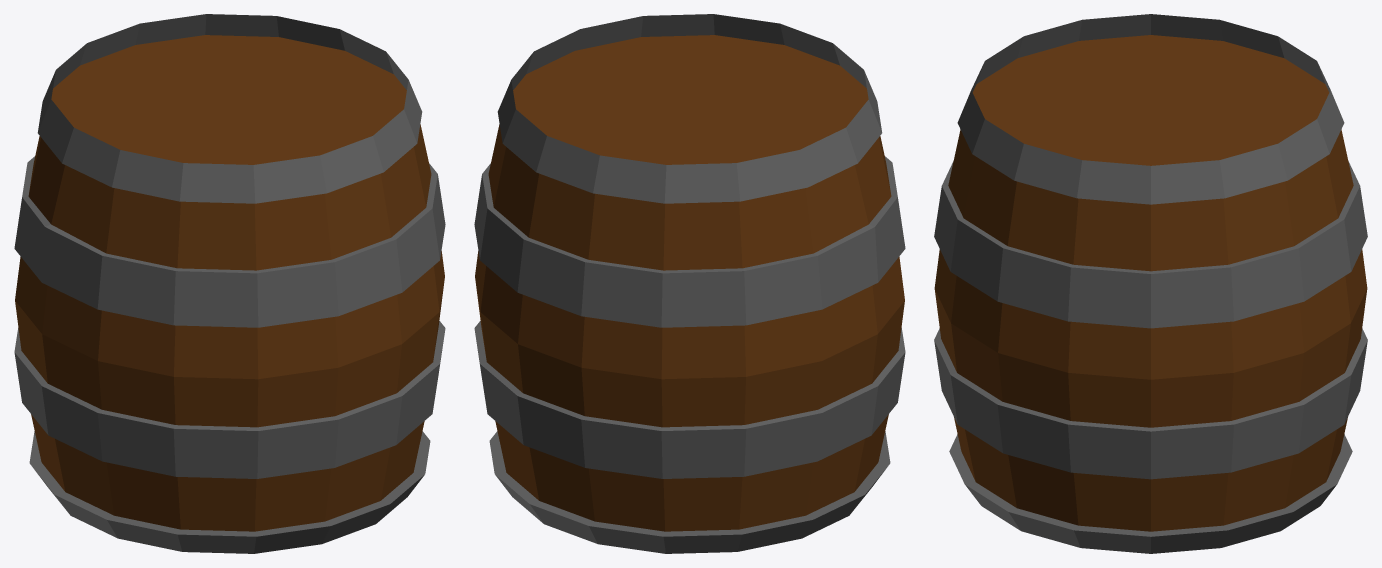
The model's file is Barrel.fbx.
3 views of the same model, side by side, from view 1: azimuth 30°, elevation 25°; view 2: azimuth 150°, elevation 25°; view 3: azimuth 270°, elevation 25° (orthographic).
Parts seen in each view (by area): view 1: Barrel; view 2: Barrel; view 3: Barrel.
Boxes of the visible parts, bbox=[...] form: Barrel: bbox=[14, 14, 445, 553]; Barrel: bbox=[474, 14, 905, 553]; Barrel: bbox=[934, 14, 1367, 553].
Size of the model in its own units: 194 by 190 by 194.
